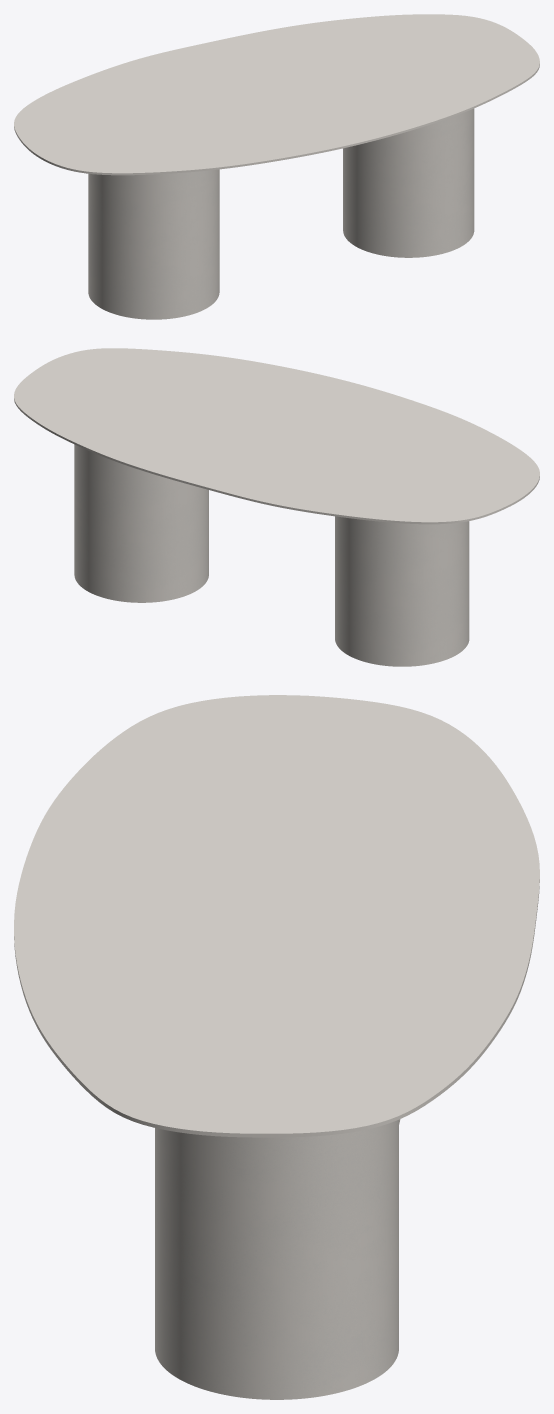
File: pearlwhite_danish_facet_stream.glb
The picture shows the model from 3 angles, top to bottom: view 1: azimuth 30°, elevation 25°; view 2: azimuth 150°, elevation 25°; view 3: azimuth 270°, elevation 25°; orthographic projection. The views are drawn at different scales.
Visible parts, largest first — view 1: facet_danish, stream; view 2: facet_danish, stream; view 3: facet_danish, stream.
Part boxes in pixels (left/top/right/bottom): facet_danish: left=14, top=14, right=539, bottom=175; stream: left=88, top=108, right=474, bottom=319; facet_danish: left=14, top=348, right=539, bottom=524; stream: left=74, top=444, right=469, bottom=666; facet_danish: left=14, top=695, right=539, bottom=1137; stream: left=155, top=1119, right=400, bottom=1399.
Size of the model in its own units: 7.5 by 2.5 by 3.8.
1 material, 1 textured.
